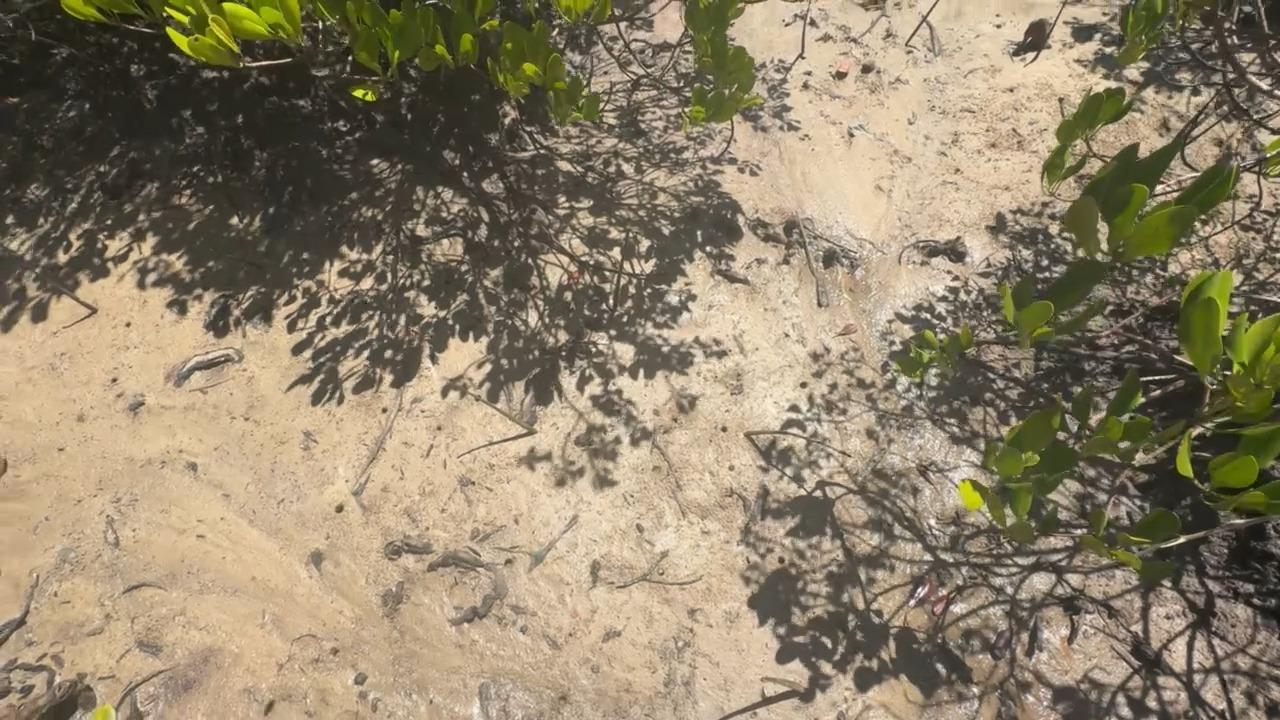Tree: (21, 263, 97, 313), (465, 389, 537, 432), (744, 430, 854, 458), (1029, 0, 1068, 62), (905, 0, 940, 47), (612, 229, 628, 312), (760, 676, 814, 699), (801, 0, 811, 55), (730, 117, 736, 138)
